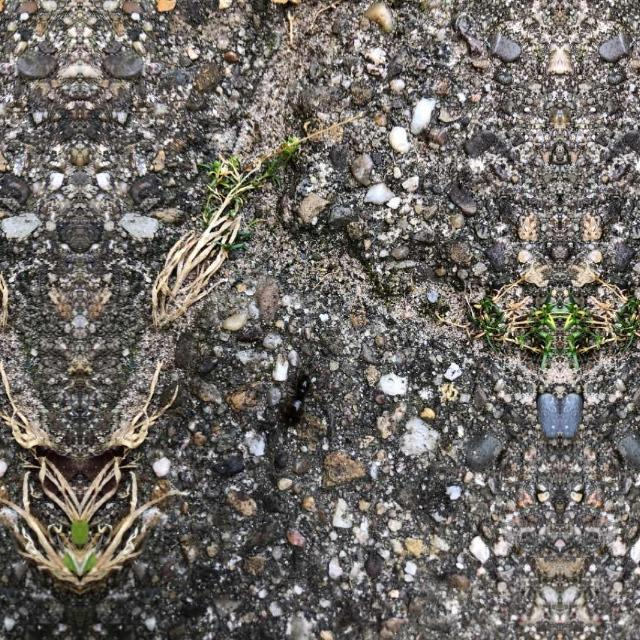Formica: (277, 356, 323, 426)
